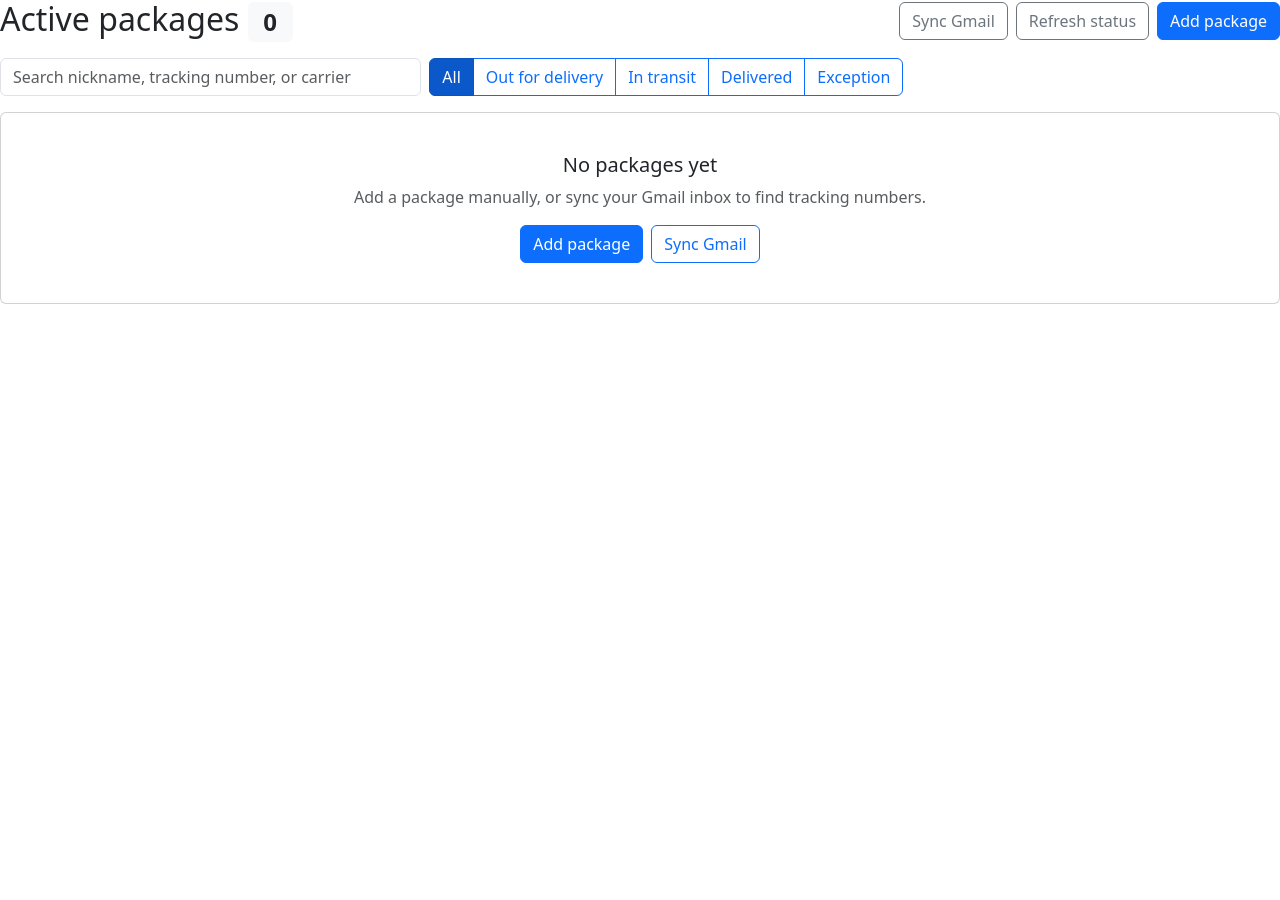
DashboardPage › Add Package modal wiring › clicking the empty-state Add package CTA opens the modal
The width and height of the screenshot is (1280, 900).
Expected: the text "No packages yet" is shown, x1=563 y1=151 x2=717 y2=178
Click the button "Add package" in the row of "Active packages" at (1218, 21), box x1=1157 y1=2 x2=1279 y2=40
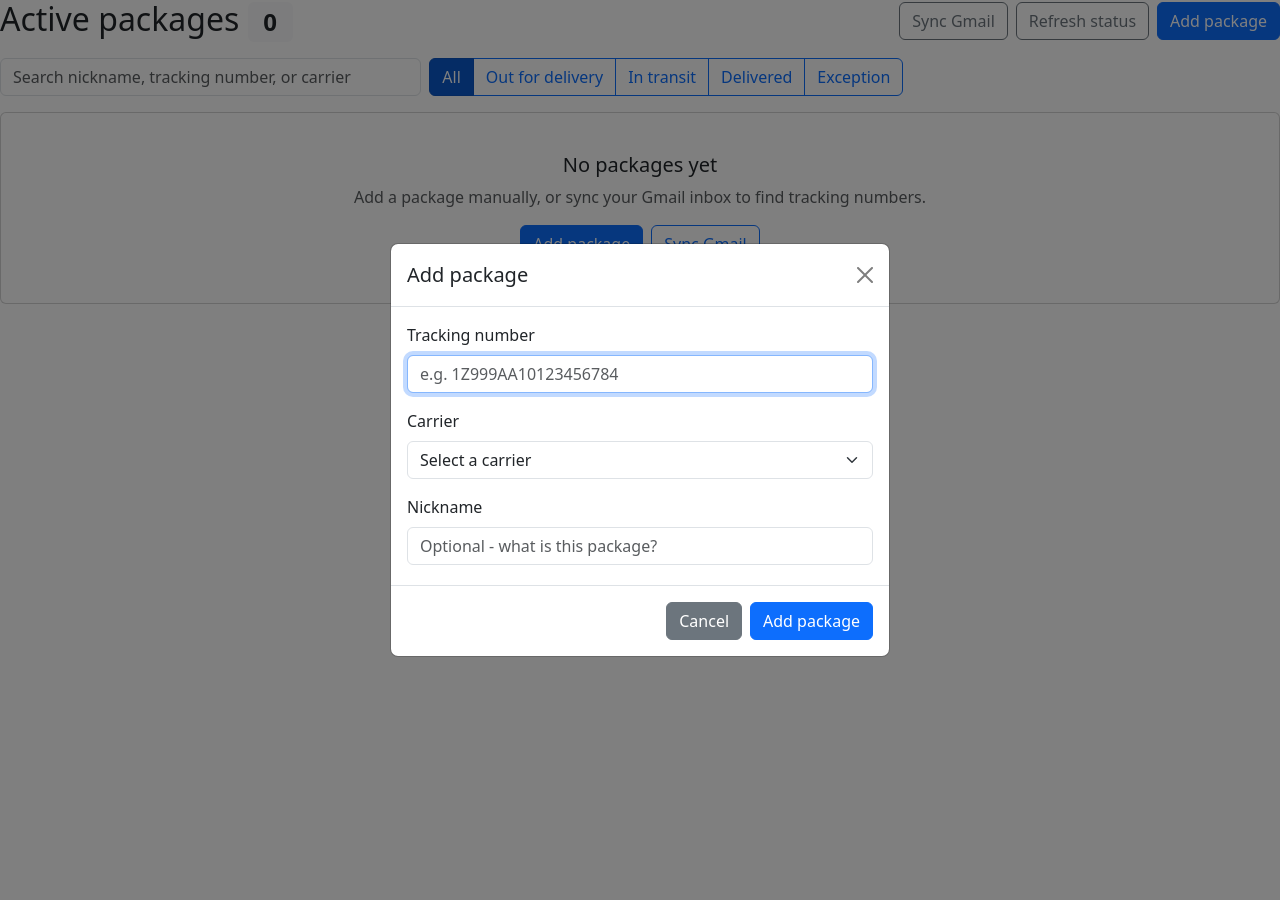
Now the heading "Add package" is shown, box x1=407 y1=260 x2=528 y2=290
